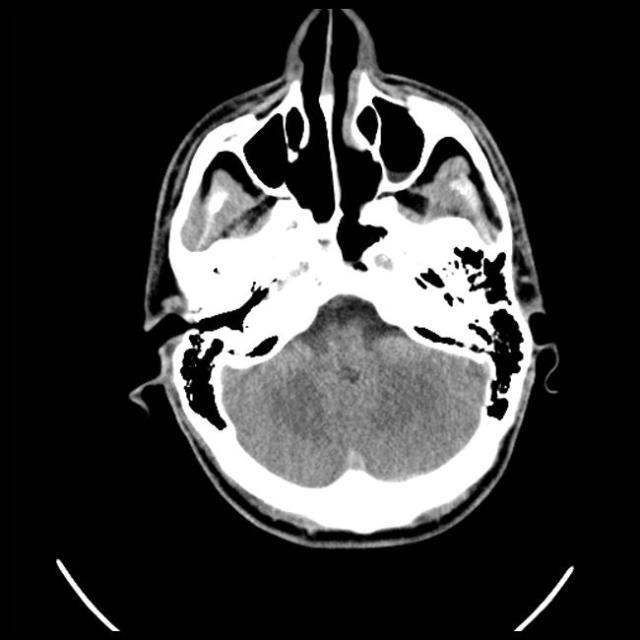lesion: (128, 8, 559, 550)
